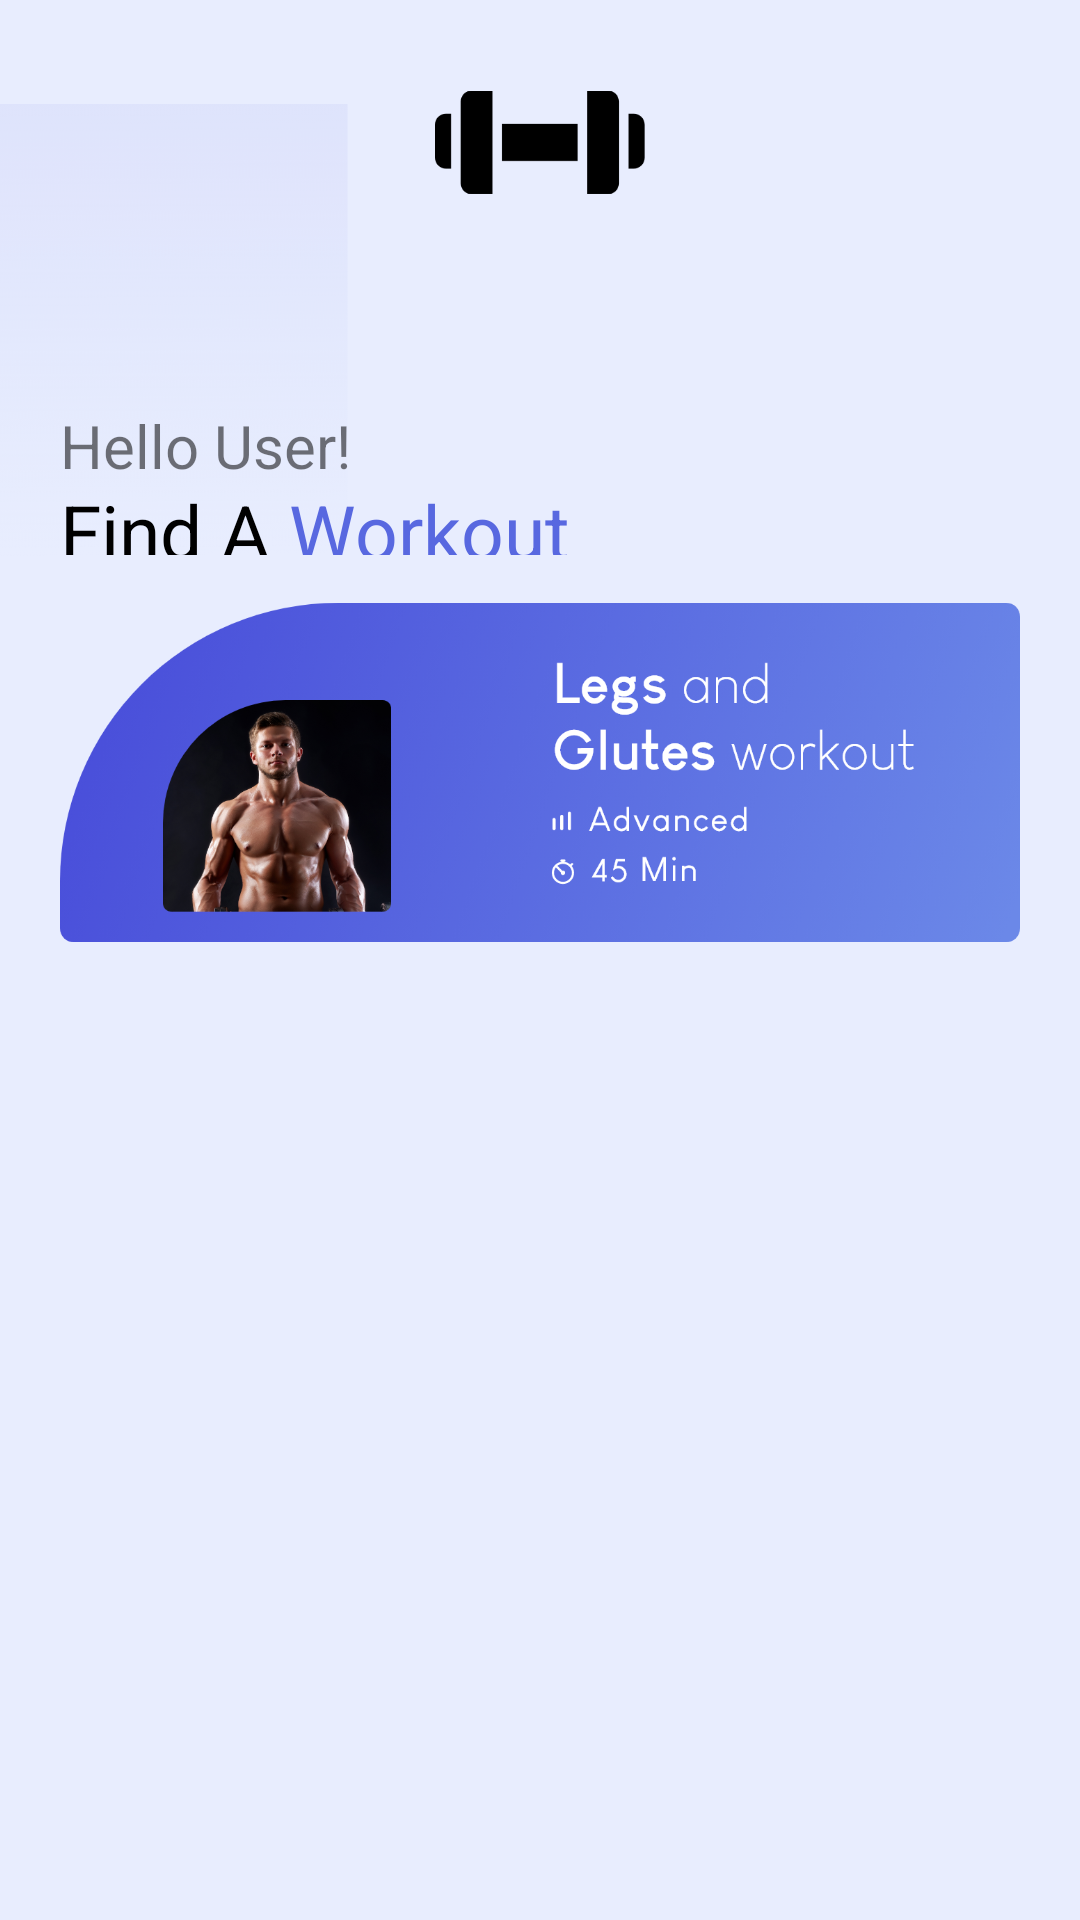

Point at icon controls on the screen. Image size 1080w x 1920h, points as [x,y].
gym: [540,142]
